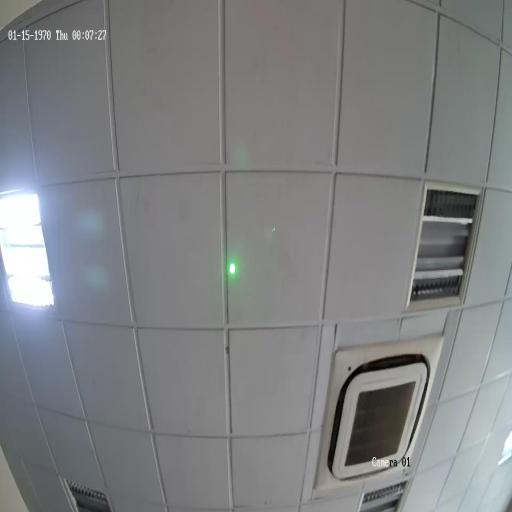laser: (228, 262, 237, 276)
